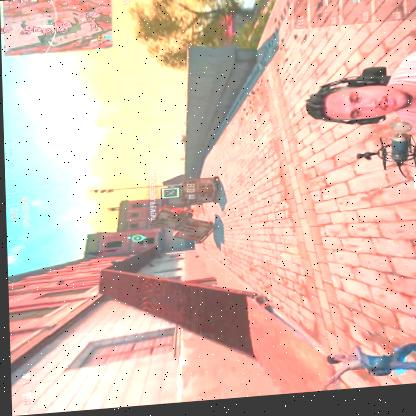streamer: (303, 47, 416, 158)
